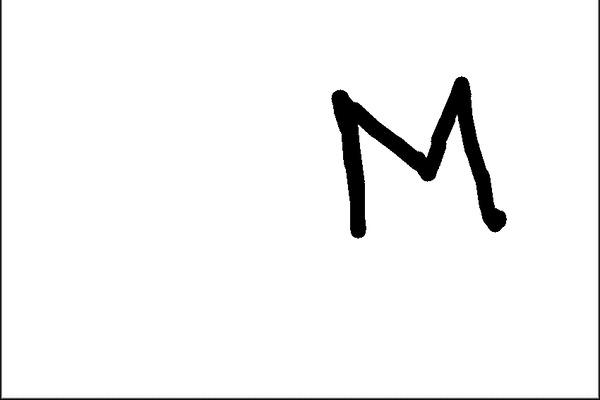M: (326, 71, 500, 236)
